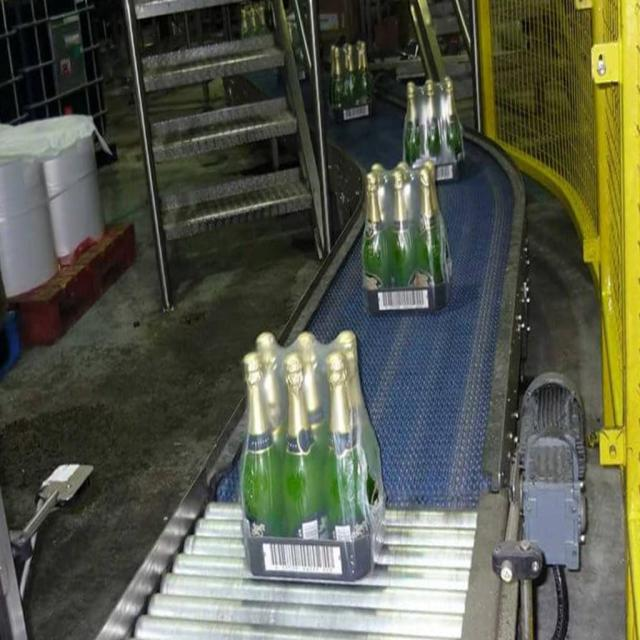bottle: (238, 347, 286, 582), (319, 350, 372, 556), (280, 354, 327, 556), (359, 174, 392, 310), (412, 160, 442, 292)
